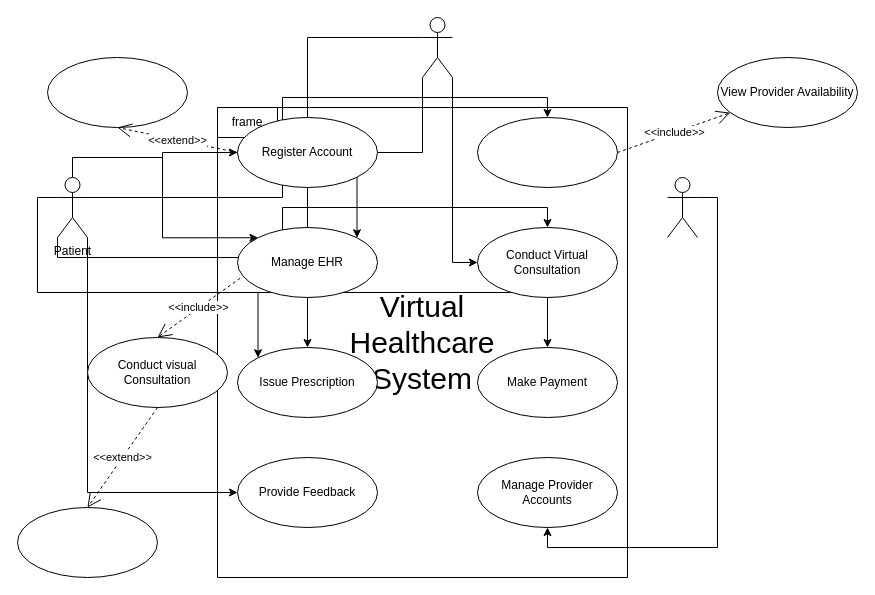
This 875x595 diagram has some shape labels left out. Here are the shapes that lost their labels. From the top down, the centre of each, then its label:
At [437,47]: "HealthcareProvider".
At [117,92]: "Add Emergency Contact".
At [547,152]: "Schedule Appointment".
At [682,207]: "Administrator".
At [87,542]: "Set Follow-up Reminder".
